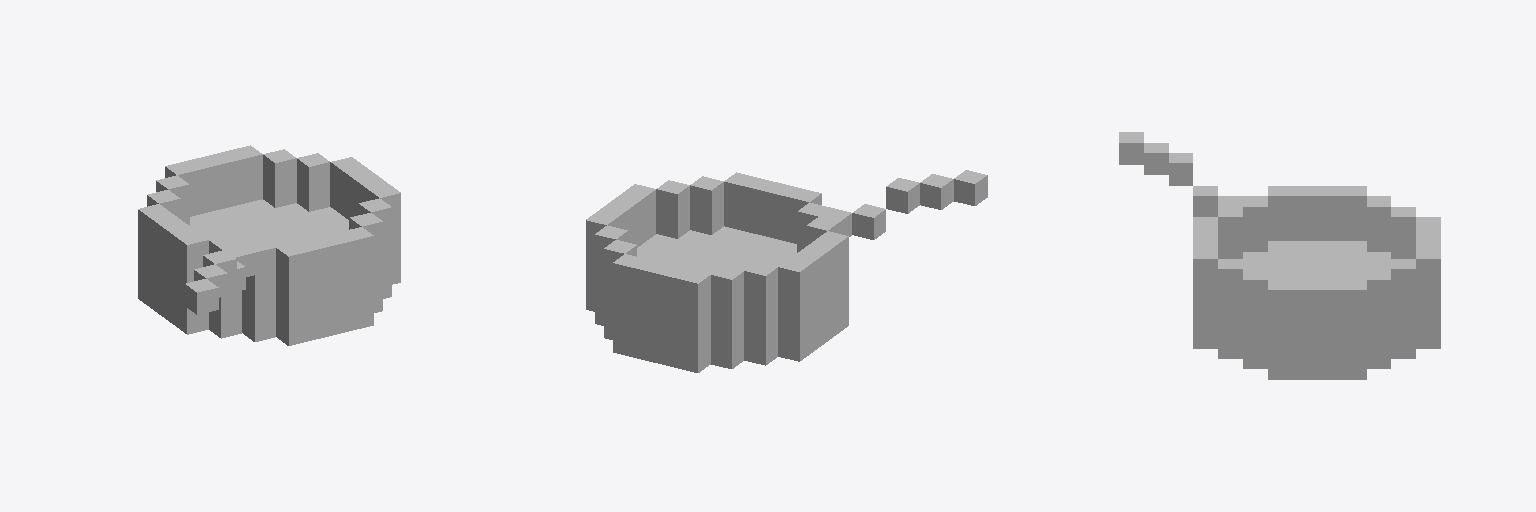
The model's file is cooking_saucepan_fill_half.obj.
3 views of the same model, side by side, from view 1: azimuth 30°, elevation 25°; view 2: azimuth 150°, elevation 25°; view 3: azimuth 270°, elevation 25° (orthographic).
Parts seen in each view (by area): view 1: node_0_0_0.002, node_0_0_0.004; view 2: node_0_0_0.002, node_0_0_0.004; view 3: node_0_0_0.002, node_0_0_0.004.
Boxes of the visible parts, box(x1,y1,x2,y2) form: node_0_0_0.002: box(138, 145, 400, 345); node_0_0_0.004: box(190, 199, 348, 247); node_0_0_0.002: box(586, 170, 987, 372); node_0_0_0.004: box(637, 226, 796, 274); node_0_0_0.002: box(1119, 132, 1440, 379); node_0_0_0.004: box(1243, 241, 1390, 279).
Bounding box in the file's own units: 0.8125 × 0.3125 × 0.8125.